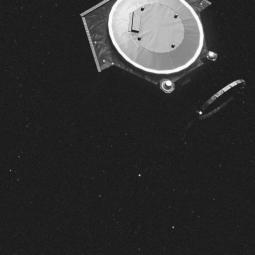cheops: (78, 0, 254, 136)
